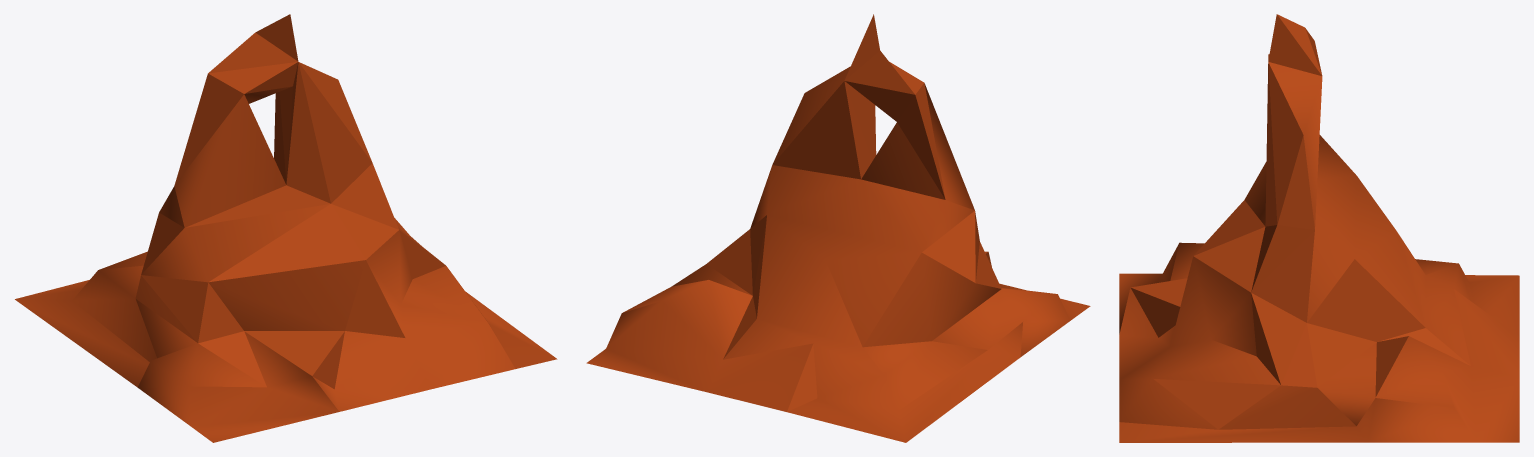
Rendered from Mountain_desert_009.glb.
The picture shows the model from 3 angles, left to right: view 1: azimuth 30°, elevation 25°; view 2: azimuth 150°, elevation 25°; view 3: azimuth 270°, elevation 25°; orthographic projection. The views are drawn at different scales.
Visible parts, largest first — view 1: Mountain_desert_009; view 2: Mountain_desert_009; view 3: Mountain_desert_009.
Part boxes in pixels (x1,y1,x2,y2): Mountain_desert_009: (15, 14, 557, 442); Mountain_desert_009: (586, 14, 1090, 442); Mountain_desert_009: (1119, 14, 1519, 442).
Bounding box in the file's own units: 23 × 21.42 × 23.02.
1 material, 1 textured.
